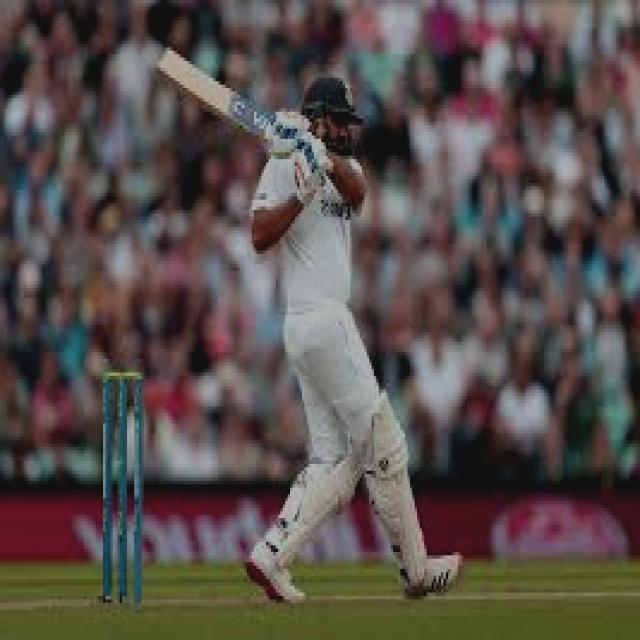toe: (152, 48, 178, 76)
